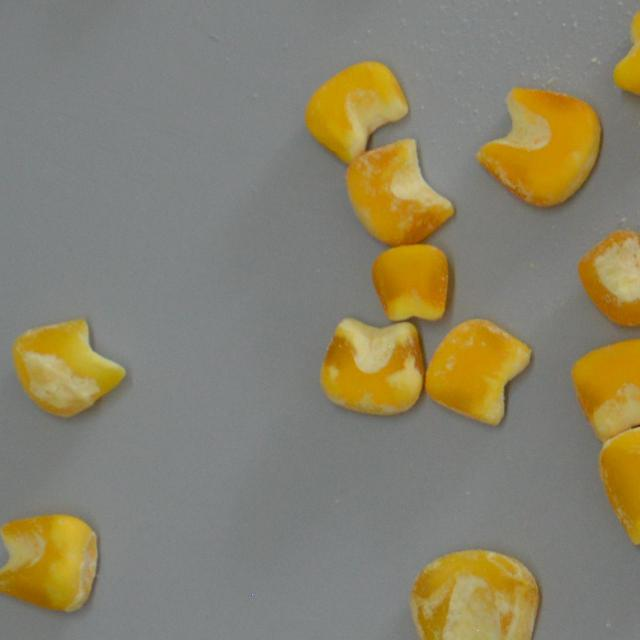no_canjicado: (316, 316, 424, 418), (302, 60, 409, 161), (570, 336, 640, 439), (370, 242, 451, 322)
pelicula: (476, 86, 600, 206), (407, 548, 544, 640), (10, 315, 127, 420), (344, 136, 454, 246), (424, 316, 530, 428), (0, 514, 98, 612), (576, 228, 640, 328), (598, 422, 640, 546), (611, 2, 640, 104)
